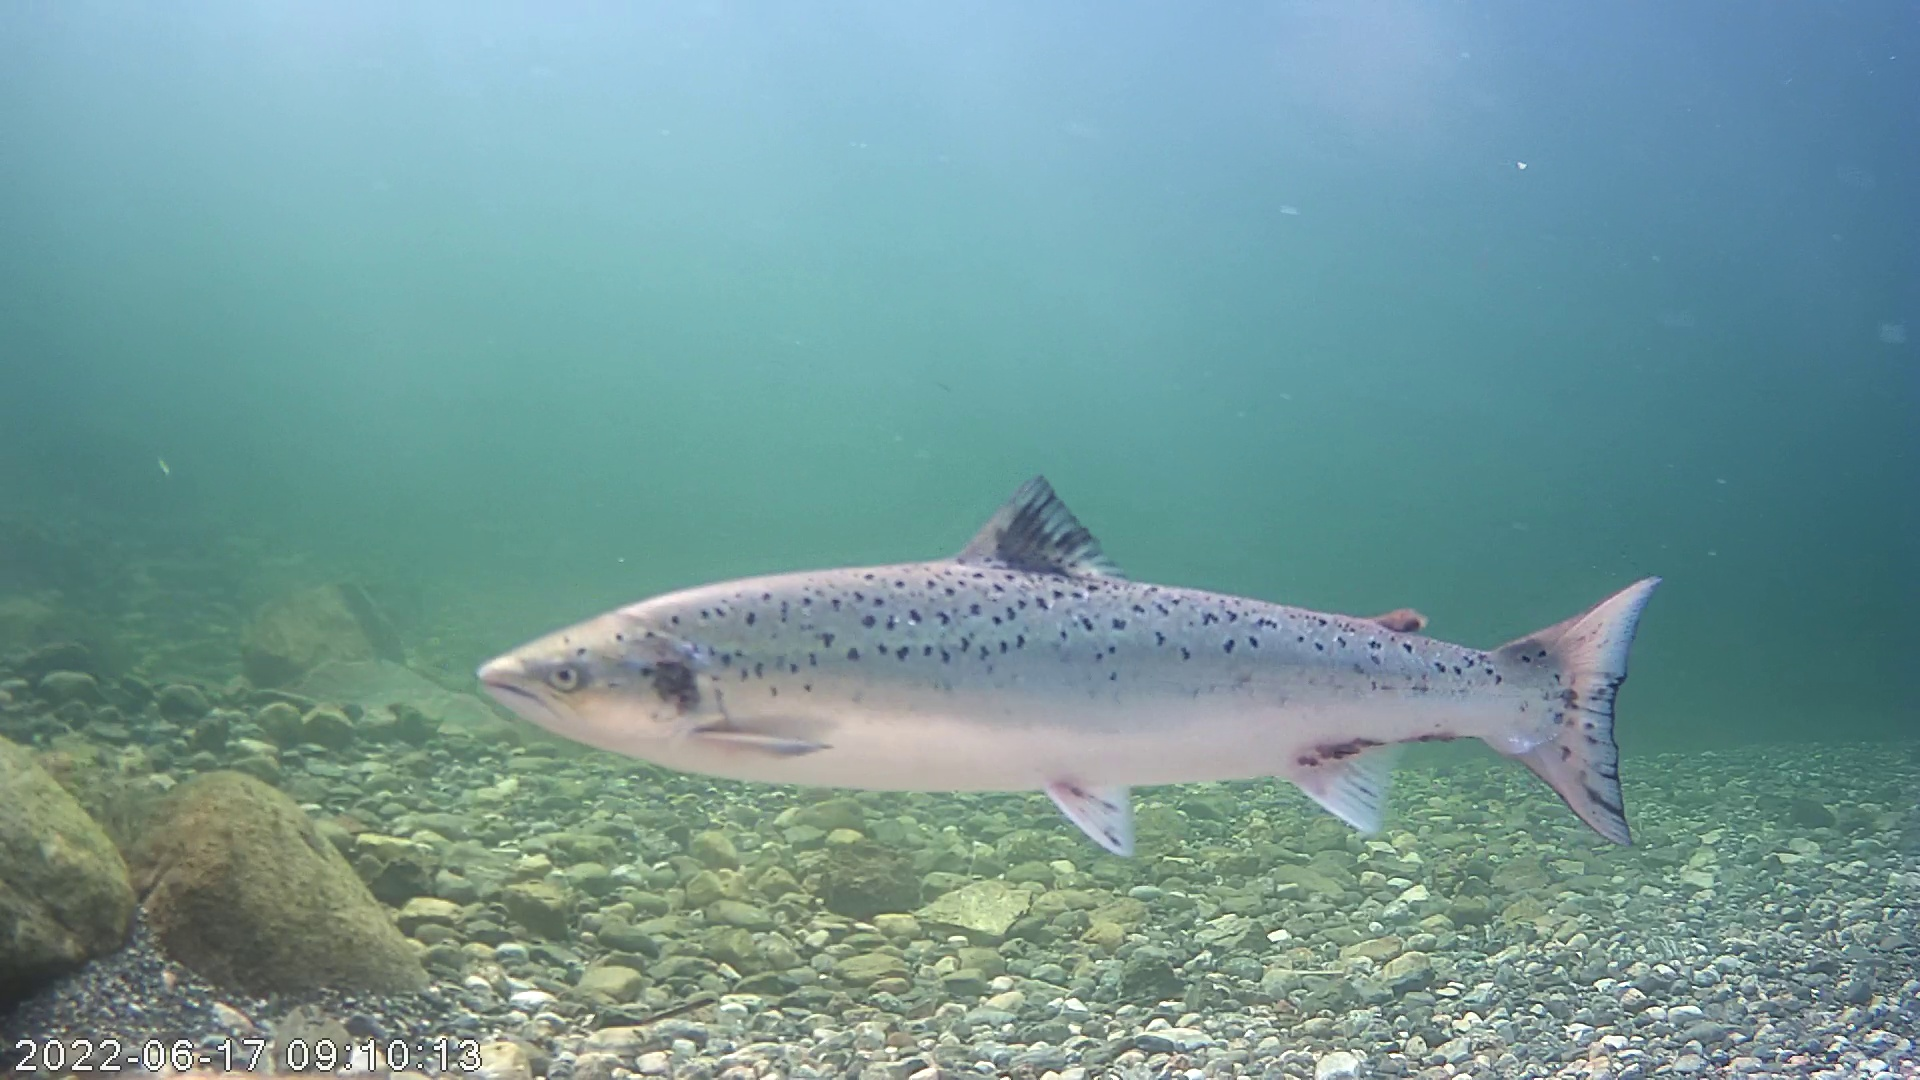salmon: (473, 469, 1664, 857)
